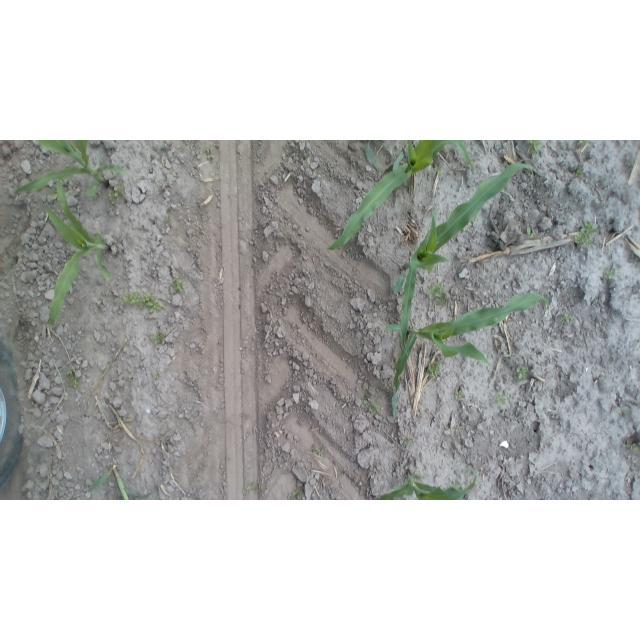Maize: (390, 157, 538, 345), (381, 289, 548, 423), (323, 140, 470, 256), (44, 176, 118, 328), (17, 141, 127, 200), (376, 468, 481, 500), (86, 461, 163, 500), (365, 141, 384, 175)
Weeds: (121, 291, 163, 313), (573, 219, 599, 249), (362, 393, 383, 416), (426, 283, 447, 304), (427, 360, 444, 381), (109, 183, 125, 204), (525, 141, 544, 158), (170, 276, 186, 294), (514, 364, 530, 382), (65, 370, 79, 390), (242, 481, 261, 495), (525, 226, 540, 241), (492, 393, 508, 407), (602, 267, 617, 281), (312, 445, 327, 458), (152, 332, 166, 345), (204, 147, 215, 162), (290, 489, 305, 500), (617, 406, 629, 418), (561, 312, 573, 324), (162, 215, 173, 228), (432, 166, 444, 177), (574, 166, 586, 177), (455, 389, 466, 401), (630, 441, 639, 455), (576, 141, 593, 148), (466, 466, 478, 475), (402, 438, 414, 447), (153, 372, 161, 381)
